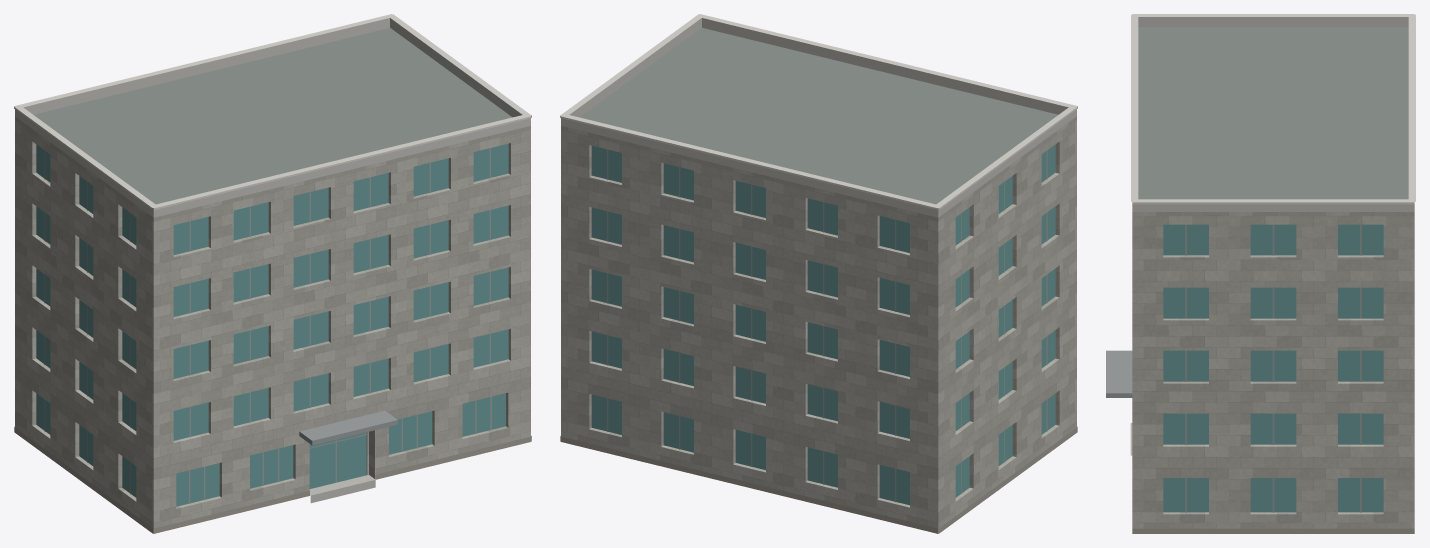
3 views of the same model, side by side, from view 1: azimuth 30°, elevation 25°; view 2: azimuth 150°, elevation 25°; view 3: azimuth 270°, elevation 25° (orthographic).
Parts seen in each view (by area): view 1: hope__wall, hope__roof, hope__glass, hope__parapet, hope__trim, hope__frame, hope__base, hope__canopy, hope__entranceThreshold_0; view 2: hope__wall, hope__roof, hope__glass, hope__parapet, hope__trim, hope__base, hope__frame; view 3: hope__wall, hope__roof, hope__glass, hope__trim, hope__parapet, hope__base, hope__canopy, hope__frame.
Boxes of the visible parts, <box> form: hope__wall: <box>15,116,530,533</box>; hope__roof: <box>33,28,512,533</box>; hope__glass: <box>36,143,508,506</box>; hope__parapet: <box>15,18,530,217</box>; hope__trim: <box>14,14,531,209</box>; hope__frame: <box>44,148,491,503</box>; hope__base: <box>14,426,531,533</box>; hope__canopy: <box>299,410,397,445</box>; hope__entranceThreshold_0: <box>309,475,375,503</box>; hope__wall: <box>561,116,1076,533</box>; hope__roof: <box>579,28,1058,533</box>; hope__glass: <box>591,144,1055,505</box>; hope__parapet: <box>561,18,1076,217</box>; hope__trim: <box>560,14,1077,209</box>; hope__base: <box>560,426,1077,533</box>; hope__frame: <box>607,149,1047,502</box>; hope__wall: <box>1132,212,1414,528</box>; hope__roof: <box>1138,27,1408,199</box>; hope__glass: <box>1163,224,1383,512</box>; hope__trim: <box>1131,14,1415,204</box>; hope__parapet: <box>1132,17,1414,211</box>; hope__base: <box>1132,528,1414,533</box>; hope__canopy: <box>1106,350,1132,397</box>; hope__frame: <box>1185,224,1361,512</box>.
Size of the model in its own units: 22.12 by 18.55 by 15.36.
10 materials, 1 textured.
